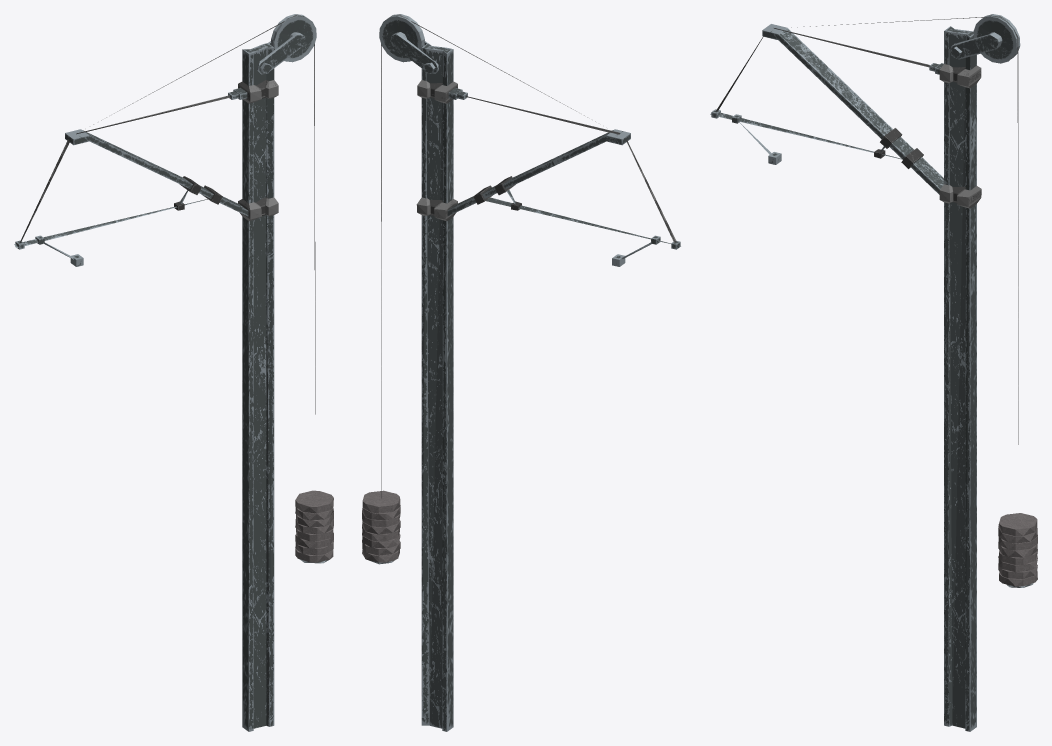
The model's file is SM_ElectricPole_01_LOD_02.FBX.
The picture shows the model from 3 angles, left to right: view 1: azimuth 30°, elevation 25°; view 2: azimuth 150°, elevation 25°; view 3: azimuth 330°, elevation 25°; orthographic projection. The views are drawn at different scales.
Visible parts, largest first — view 1: SM_ElectricPole_01_LOD_02; view 2: SM_ElectricPole_01_LOD_02; view 3: SM_ElectricPole_01_LOD_02.
Part boxes in pixels (x1,y1,x2,y2): SM_ElectricPole_01_LOD_02: (14,14,333,731); SM_ElectricPole_01_LOD_02: (362,14,680,731); SM_ElectricPole_01_LOD_02: (710,14,1037,731).
Bounding box in the file's own units: 5.22 × 11.08 × 0.5559.
1 material, 1 textured.
